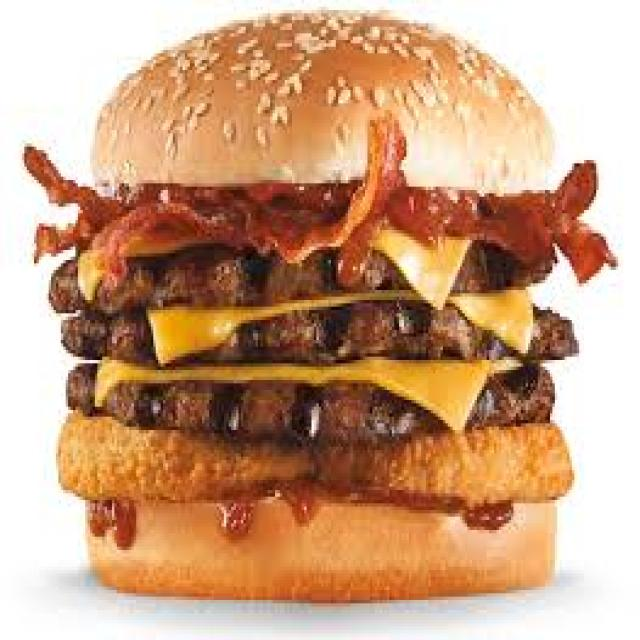Wet Waste: (35, 45, 595, 571)
